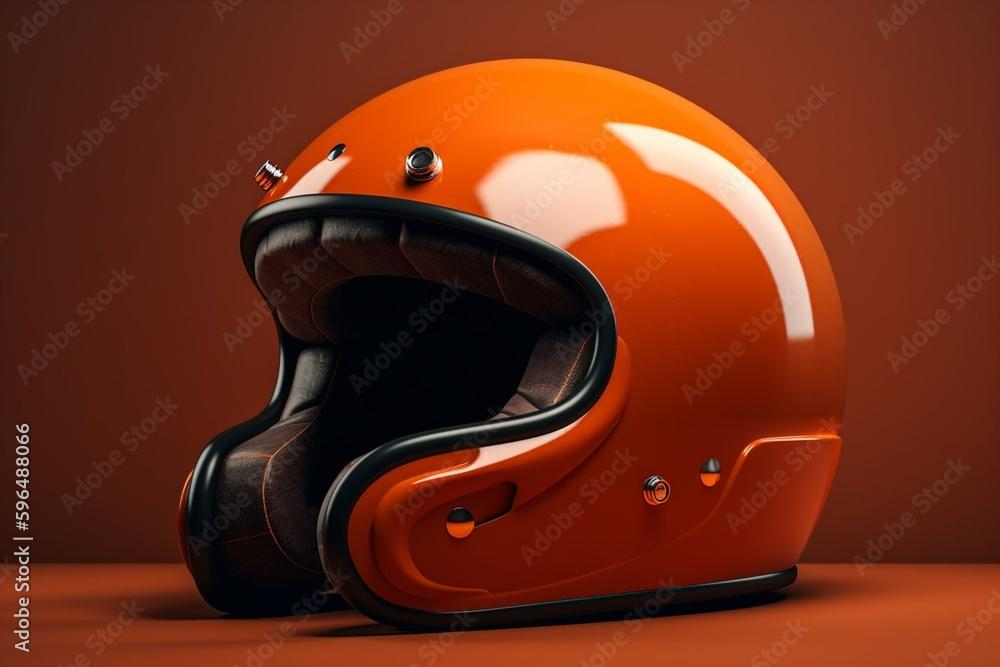helmet: (171, 53, 849, 635)
